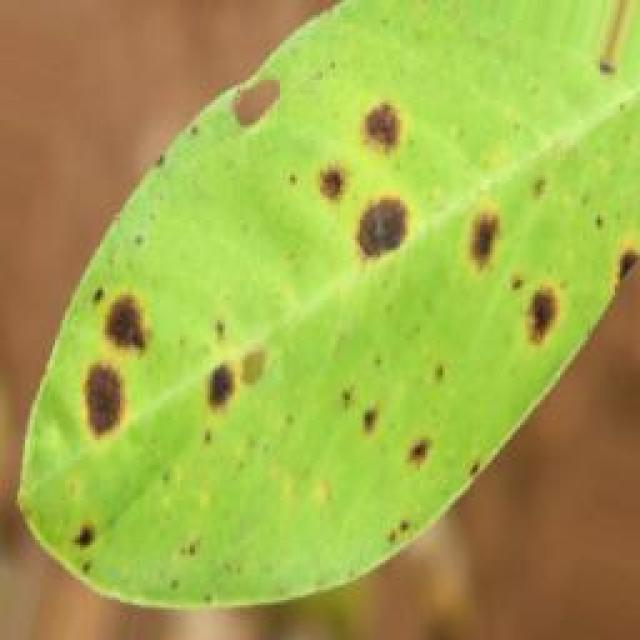Yellowish: (0, 34, 640, 588)
